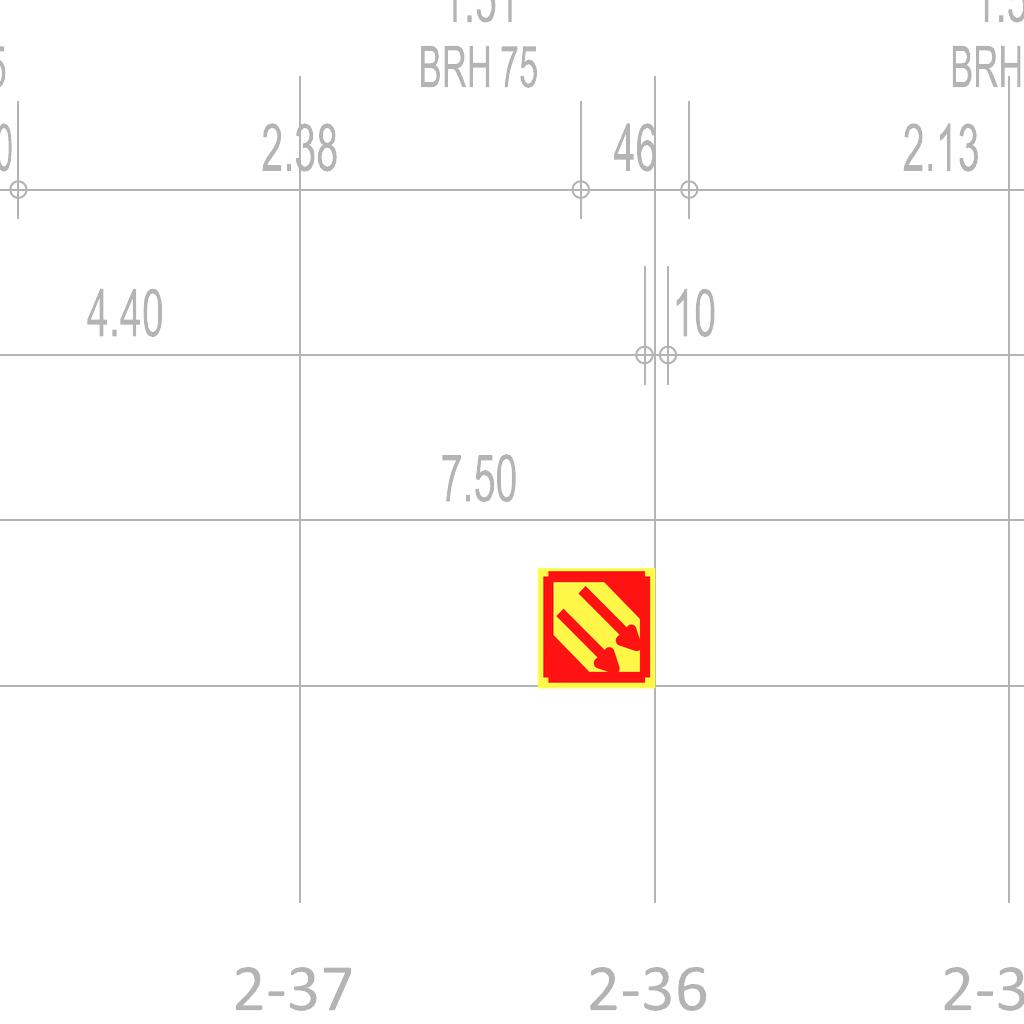ASR_Ansaugrauchmelder: (534, 566, 659, 691)
